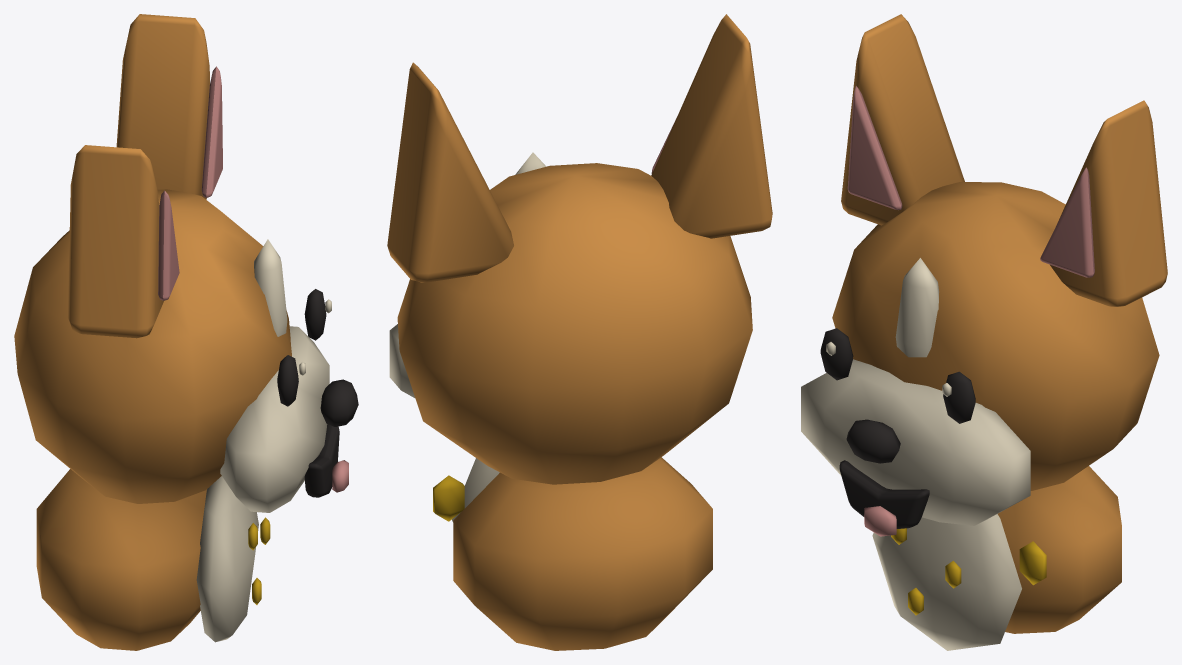
Rendered from corgi_speedway.glb.
3 renders of one model, left to right at view 1: azimuth 30°, elevation 25°; view 2: azimuth 150°, elevation 25°; view 3: azimuth 270°, elevation 25°, orthographic. The views are drawn at different scales.
Parts seen in each view (by area): view 1: orange head, shoulders; view 2: orange head, shoulders; view 3: orange head, shoulders.
Part boxes in pixels (<box>): orange head: <box>14,14,358,512</box>; shoulders: <box>36,469,270,650</box>; orange head: <box>387,14,772,484</box>; shoulders: <box>433,457,712,650</box>; orange head: <box>801,14,1167,536</box>; shoulders: <box>872,466,1121,650</box>.
Bounding box in the file's own units: 0.3955 × 0.695 × 0.4126.
